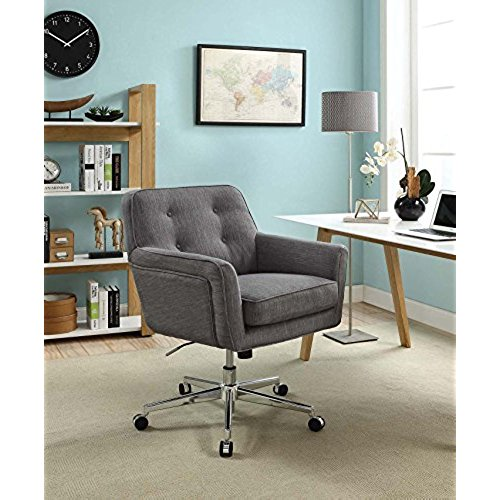chairs: (110, 182, 352, 461)
